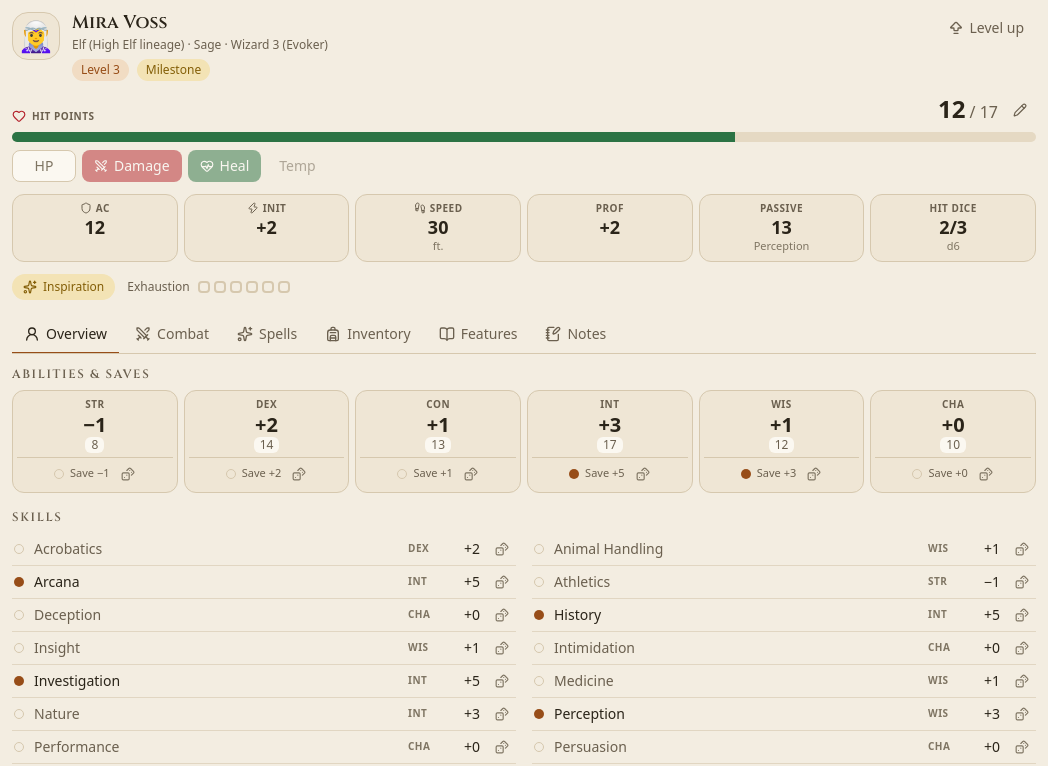
Test case: features from the player’s books › notes once that features come from the player’s books, until dismissed
Click the tab "Features" at [478, 334], box [427,316,530,354]
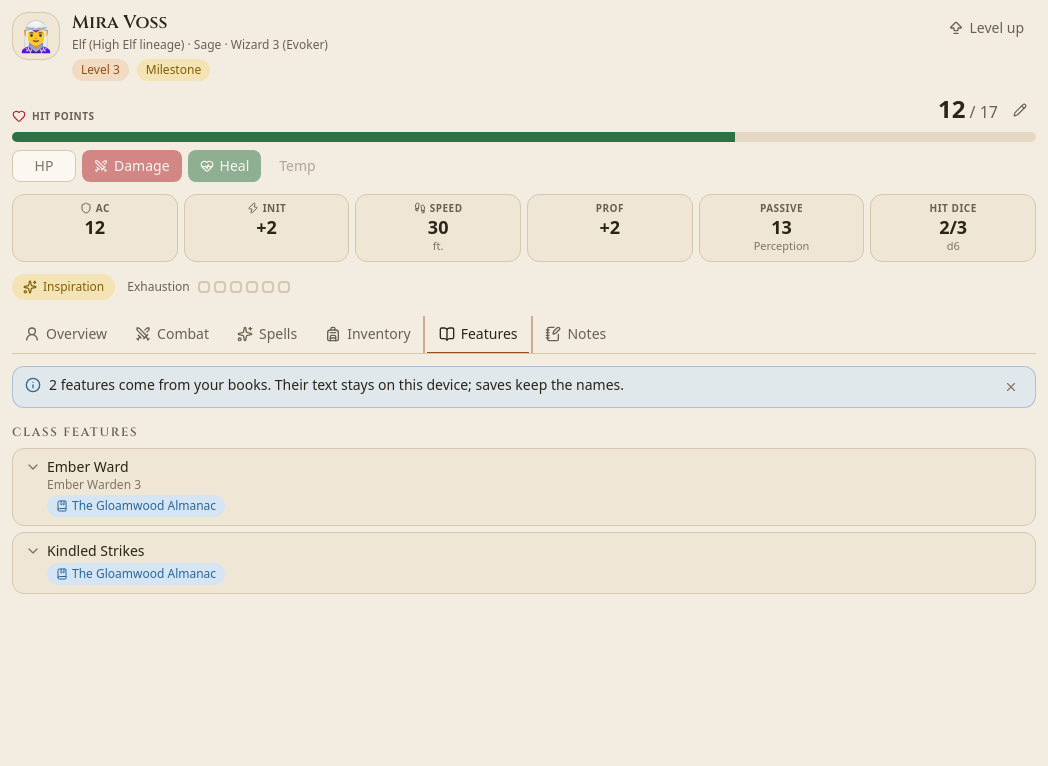
Result: the text "2 features come from your books. Their text stays on this device; saves keep the names." is shown at [49,374,624,394]
Click the button named "Dismiss this note" at [1011, 386], box [999,374,1023,398]
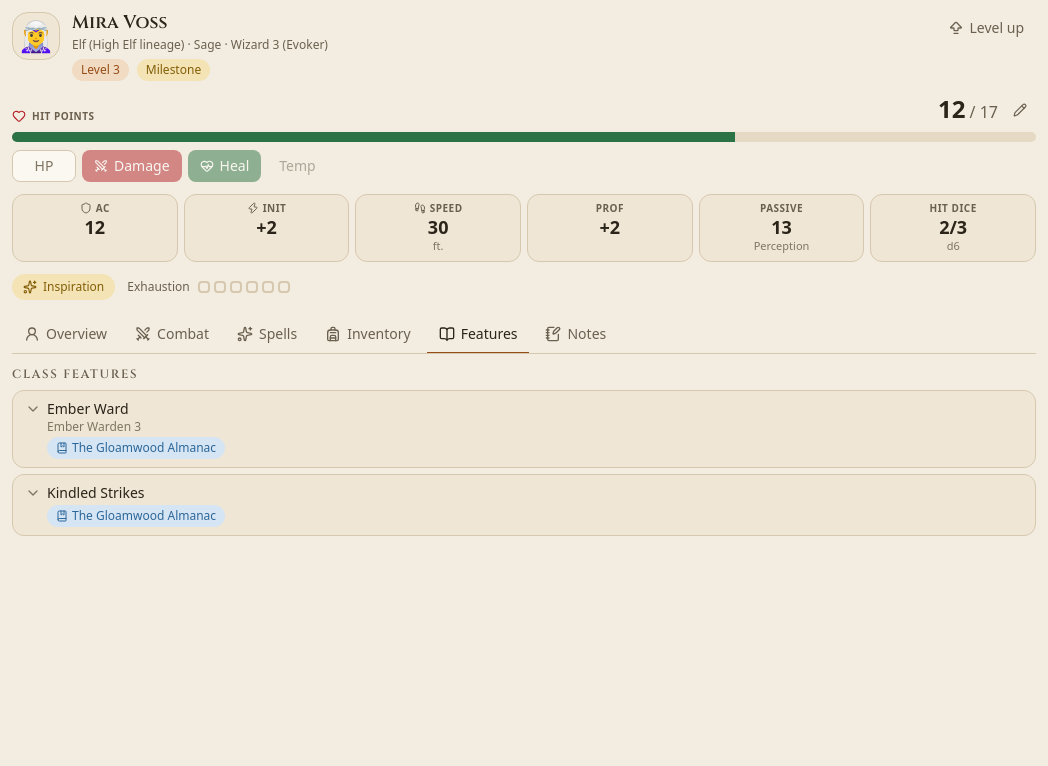
Result: the text "come from your books" is gone
